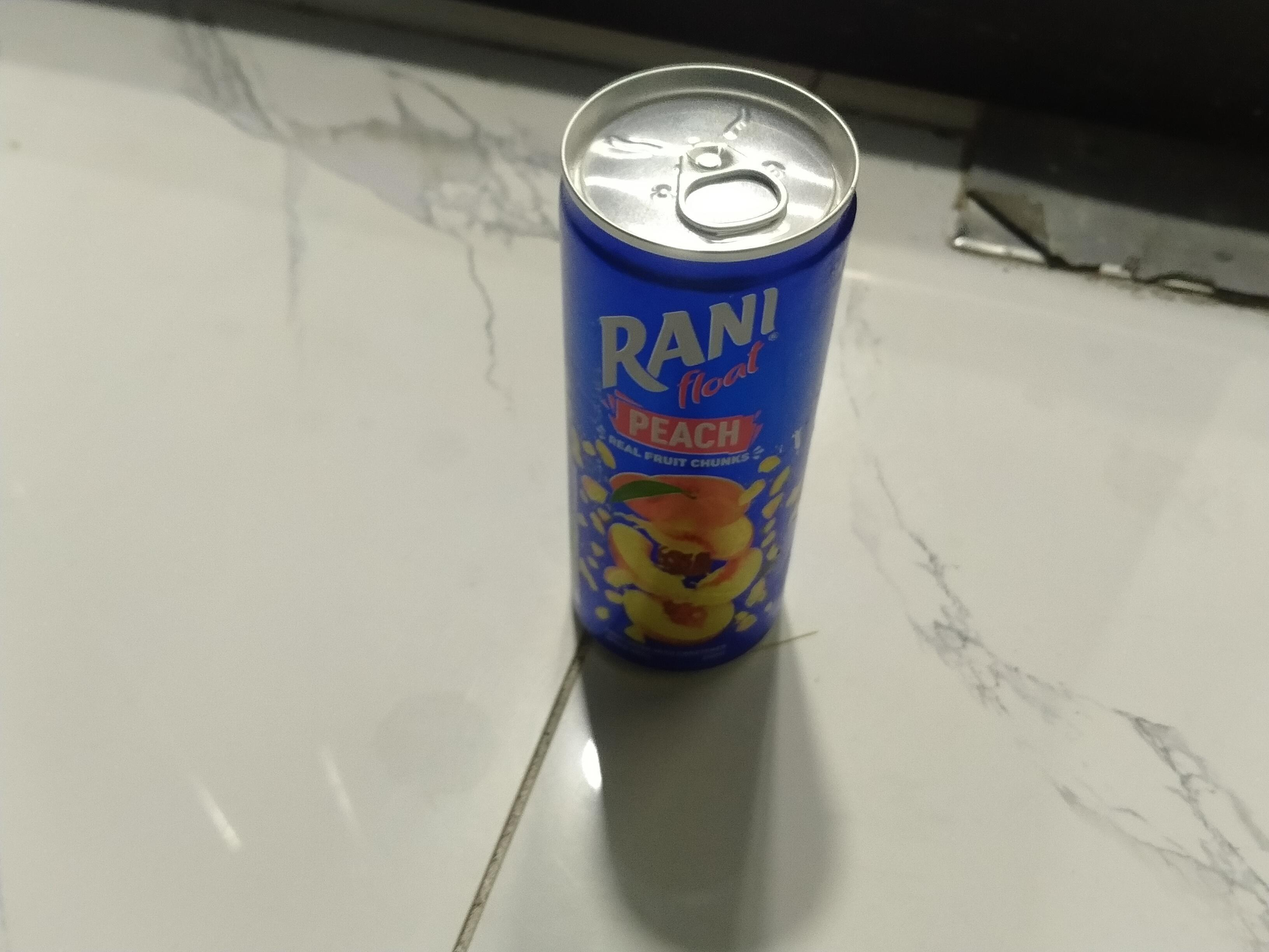tin can: (553, 55, 863, 675)
